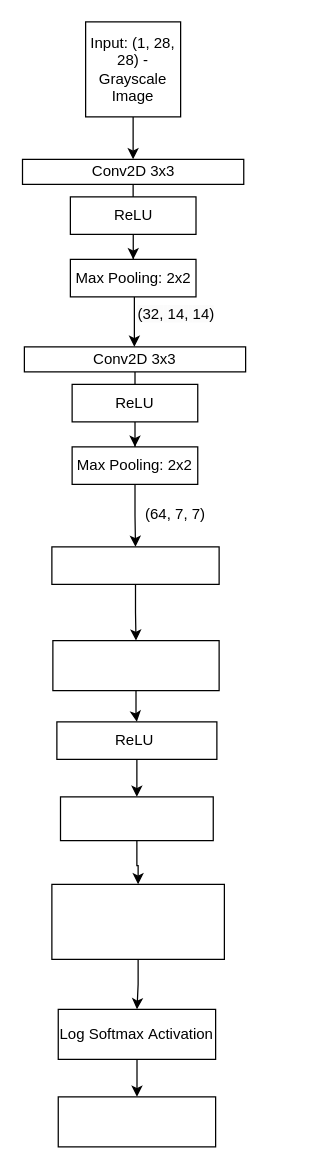
This 314x1169 diagram has some shape labels left out. Each missing label, with the box of its shape:
Dropout: 50 %: (59, 796, 213, 841)
Flatten: (51, 546, 219, 584)
Fully Connected: 10 neurons (Output Layer): (51, 883, 224, 959)
Fully Connected: 200 neurons: (52, 639, 219, 691)
Output: (57, 1096, 216, 1147)
